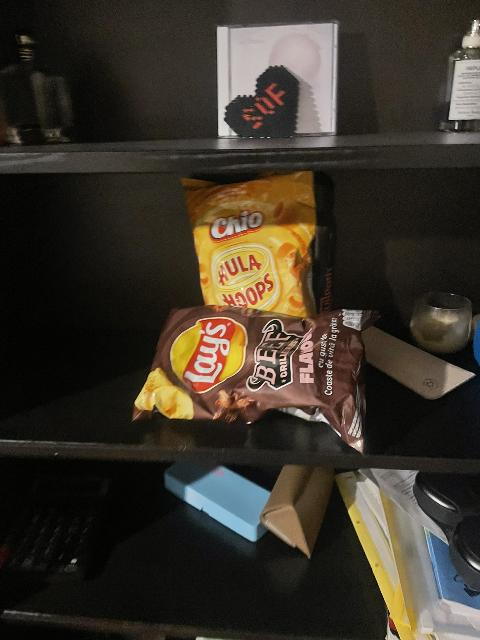Chio Hula Hoops Cheese 70g: (182, 173, 325, 318)
Lays Beef Grilled Ribs 125g: (132, 306, 371, 446)
